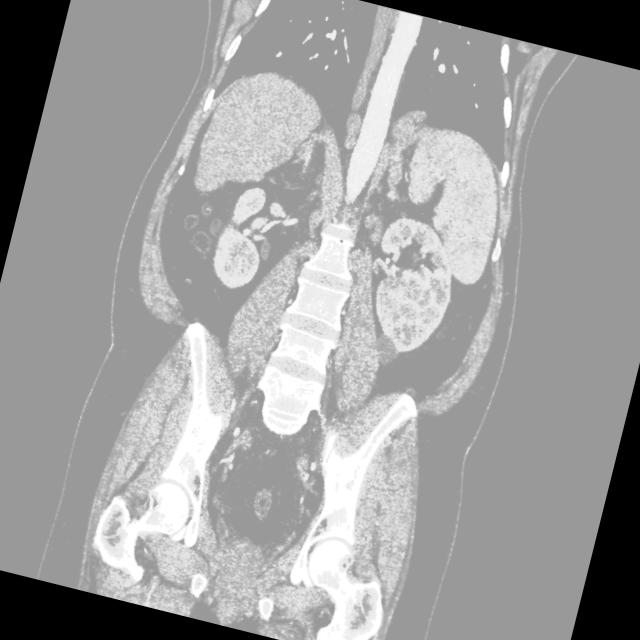TUMOR: (104, 92, 640, 541)
